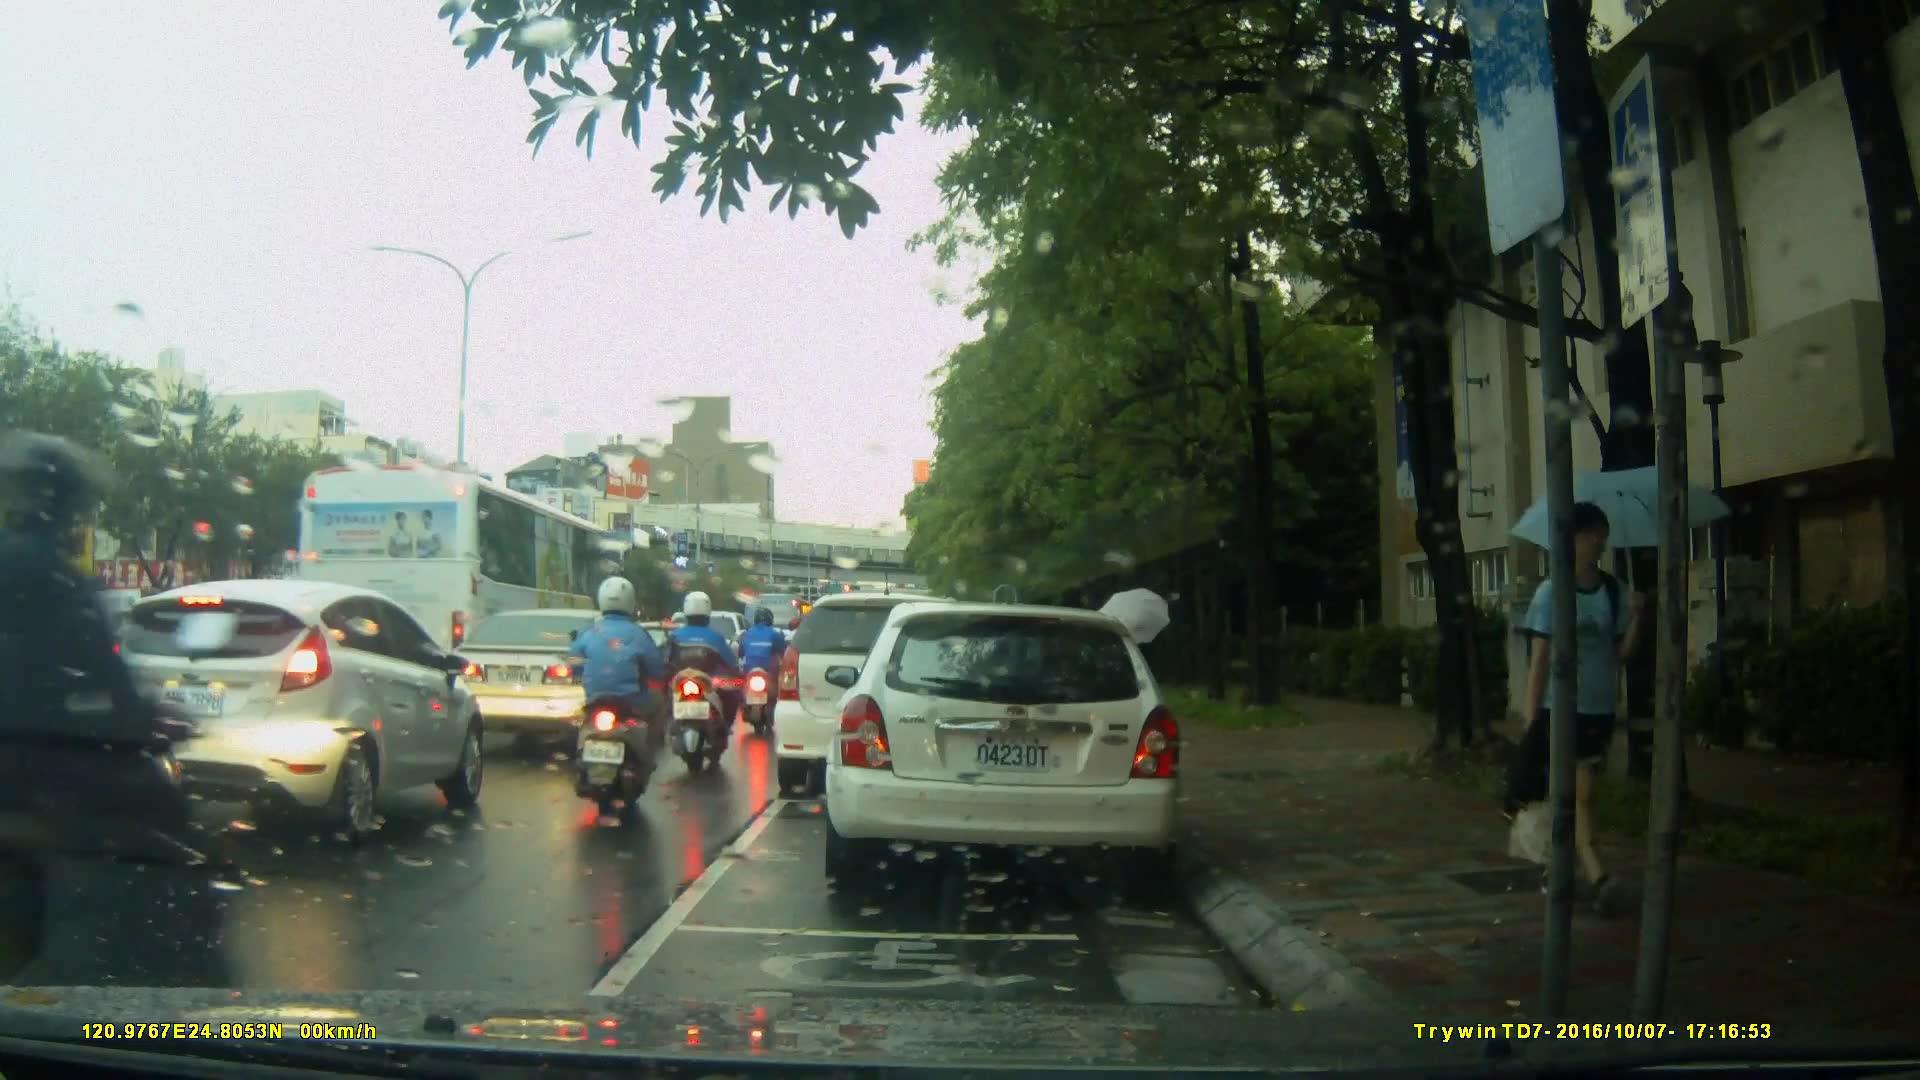pedestrian: (1497, 494, 1655, 932)
rider: (1, 425, 240, 1063), (567, 577, 685, 811), (664, 587, 742, 788), (732, 605, 787, 746)
vehicle: (835, 594, 1194, 898), (101, 576, 488, 846), (294, 464, 628, 727), (1, 547, 184, 971), (776, 590, 1026, 784), (436, 606, 672, 752), (1, 586, 155, 697), (612, 620, 718, 710)
